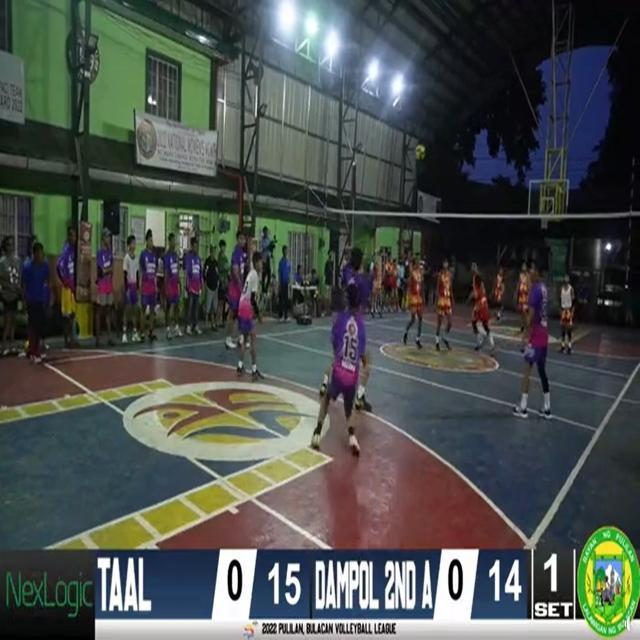volleyball: (416, 146, 426, 158)
